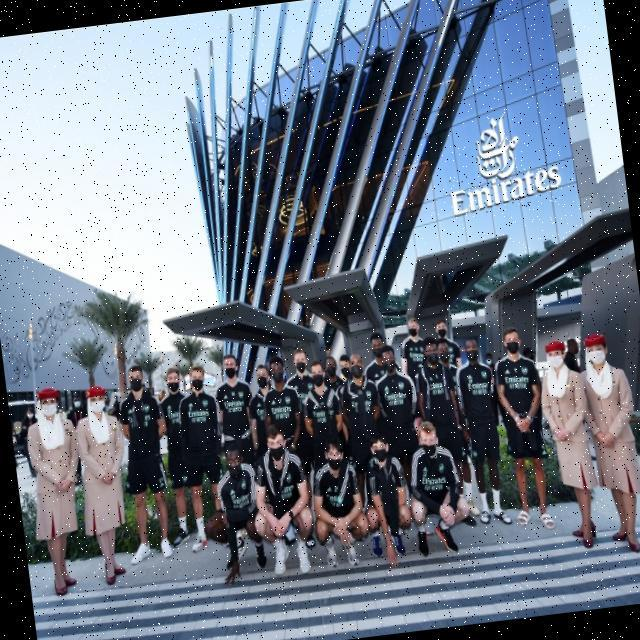Emirates: (448, 164, 565, 217), (421, 473, 447, 486), (505, 373, 530, 385), (188, 409, 209, 419), (223, 398, 244, 408), (468, 380, 489, 390), (384, 392, 407, 401), (271, 405, 291, 414)
